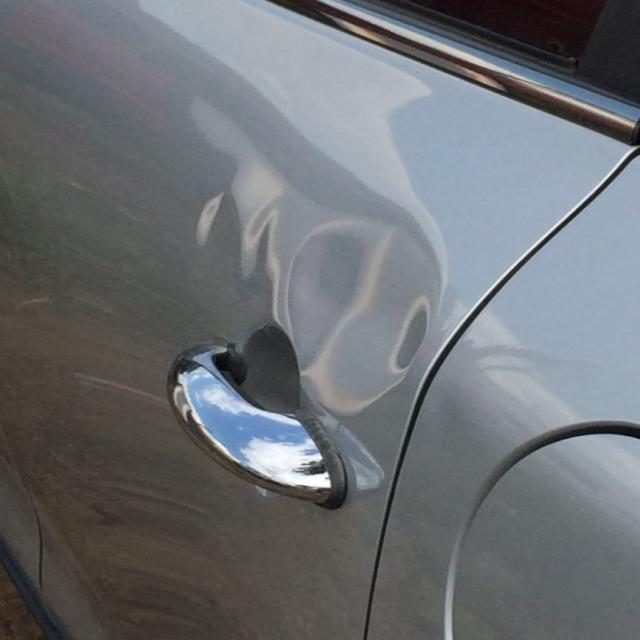dents: (270, 227, 460, 386)
